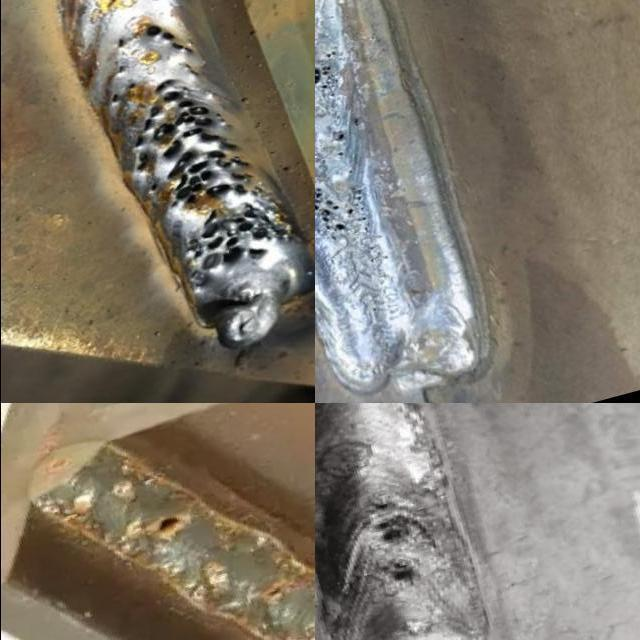defect: (130, 82, 259, 209), (184, 198, 290, 277), (357, 498, 432, 545), (314, 170, 363, 238), (137, 15, 203, 58), (371, 554, 430, 589), (156, 514, 188, 535), (264, 580, 293, 600), (327, 126, 354, 147), (182, 64, 205, 83), (109, 36, 131, 54), (105, 90, 121, 105), (126, 80, 142, 90), (113, 62, 126, 73)
